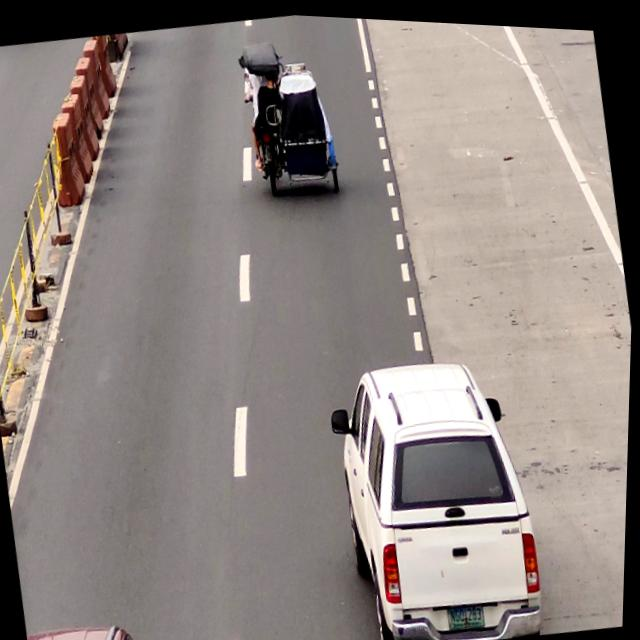Car: (329, 341, 553, 640)
License-Plate: (449, 594, 491, 634)
Tricycle: (234, 28, 346, 193)
